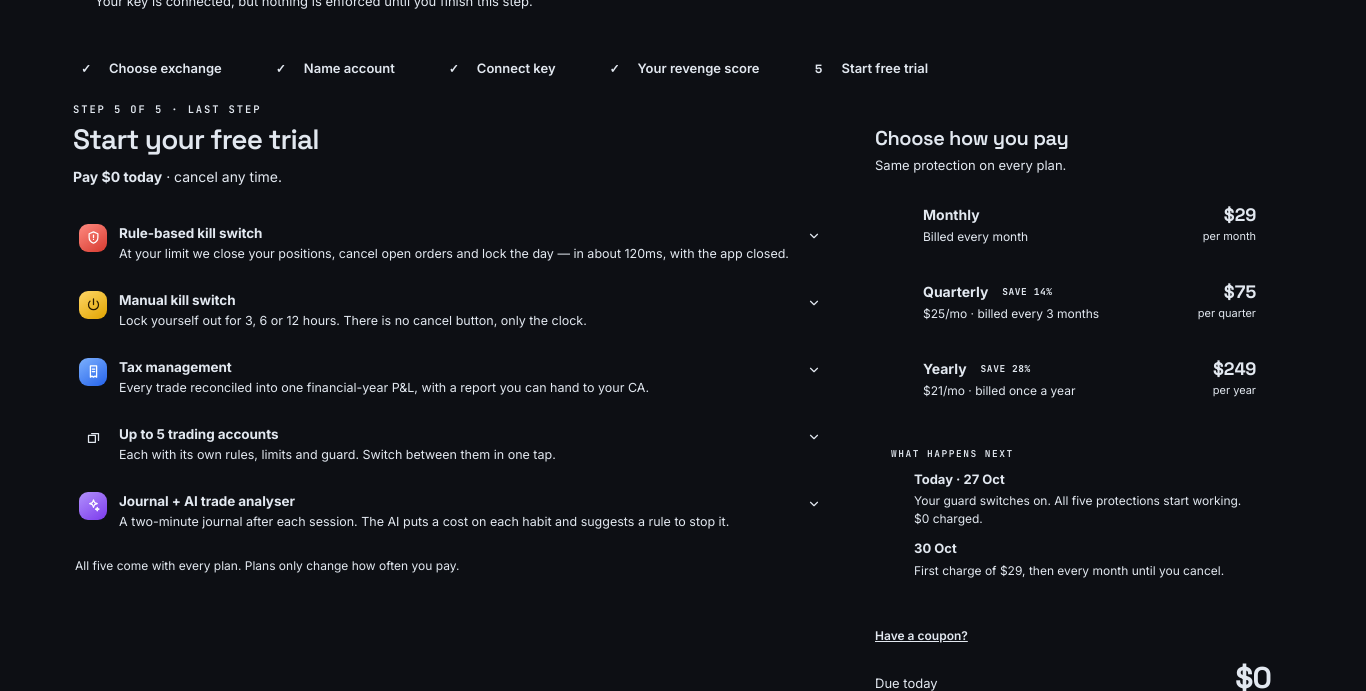
billing step › prices only the intervals the code is actually good for
The image size is (1366, 691).
Click the button "Have a coupon?". click: (921, 636)
box: [875,626,968,644]
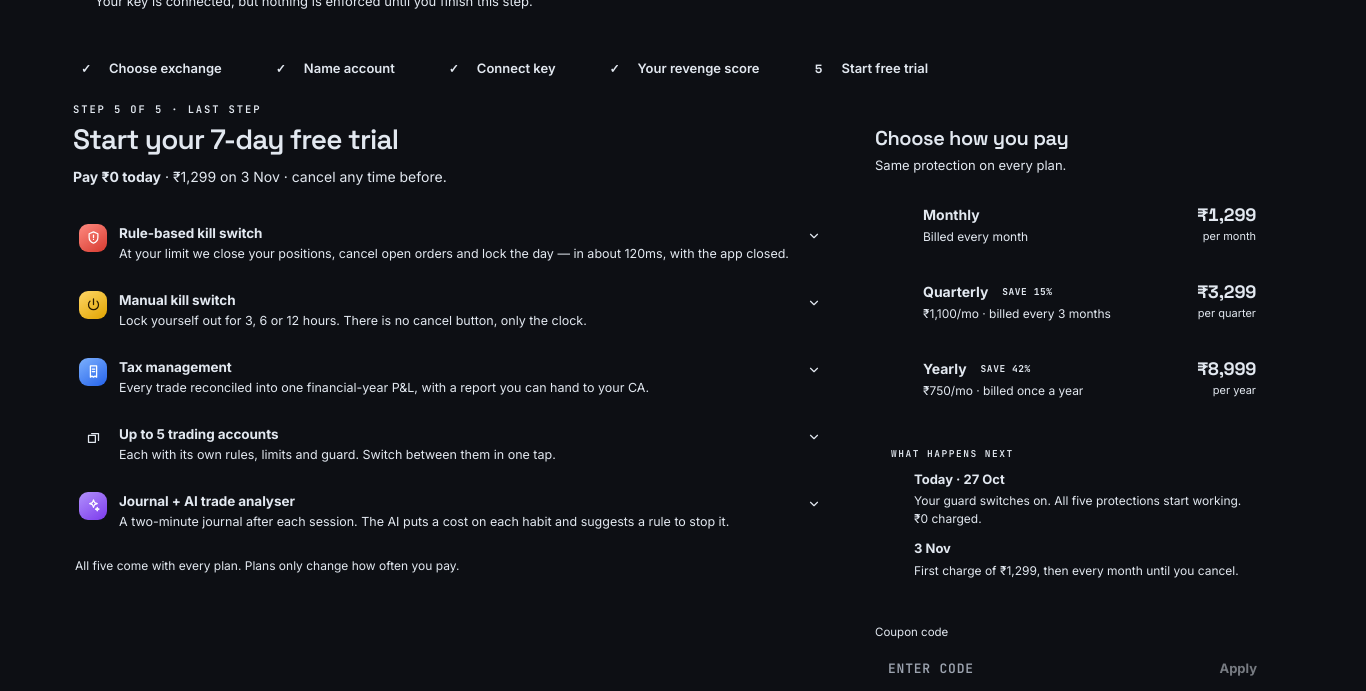
Type "monthly10" into the field with placeholder "Enter code". click: (1036, 669)
box: [875,647,1197,690]
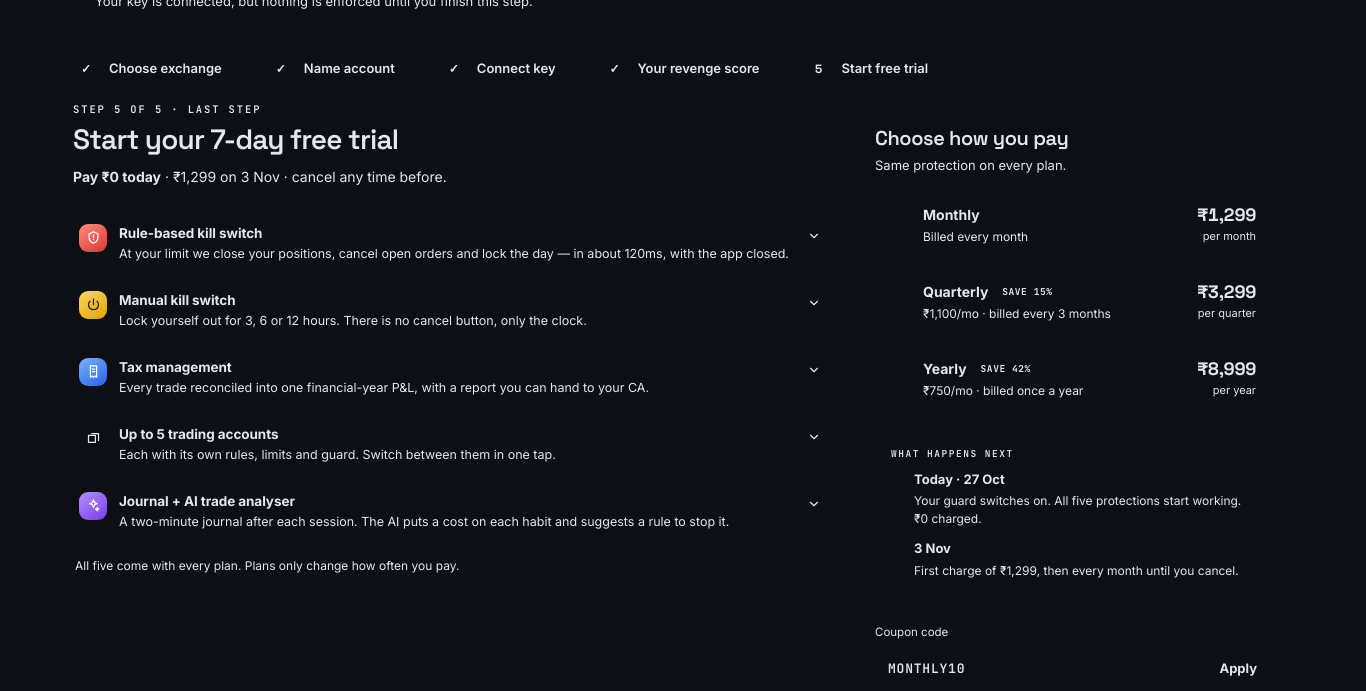
Click the button "Apply". click: (1238, 669)
box: [1205,647,1271,690]
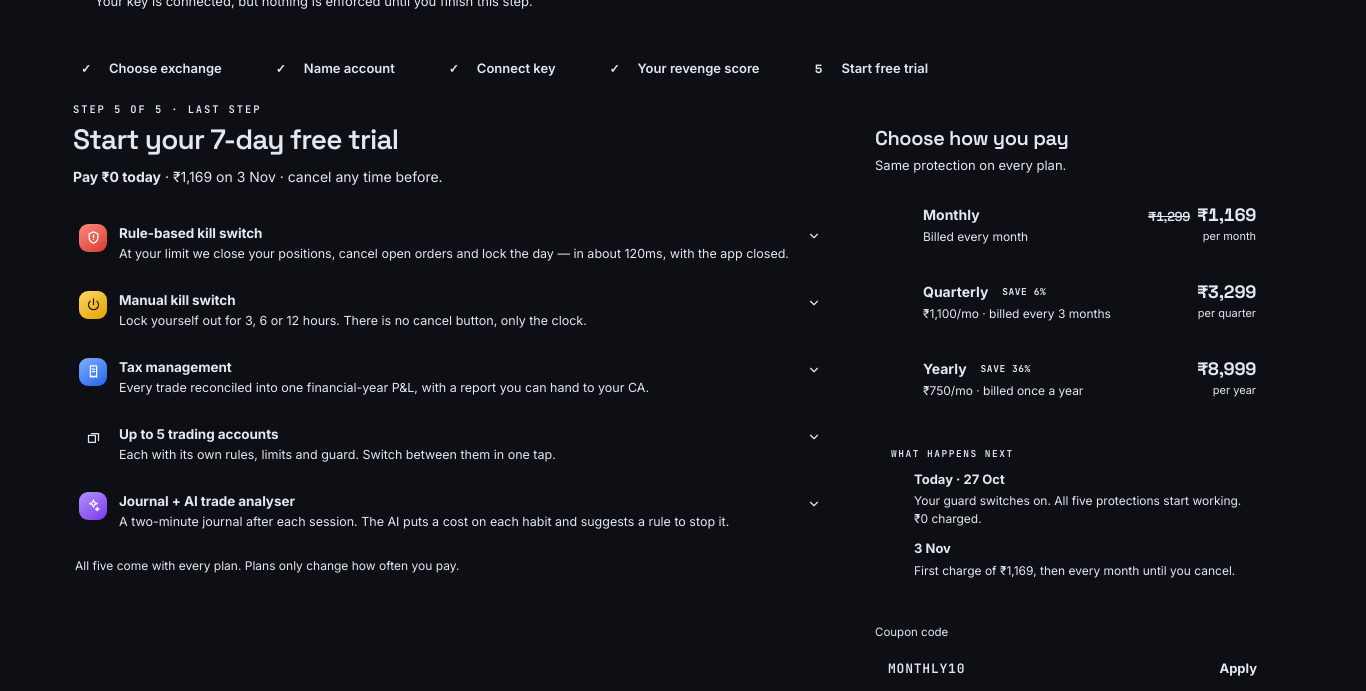
Result: the text "₹3,299" is shown at [1197,283,1256,301]
Result: the text "₹8,999" is shown at [1197,360,1256,378]
Result: the text "₹1,169" is shown at [1197,203,1256,226]
Click the radio button labelled "Yearly SAVE 36% ₹750/mo · billed once a year ₹8,999 per year". click: (945, 369)
box: [875,345,1271,413]
(page scrolled)
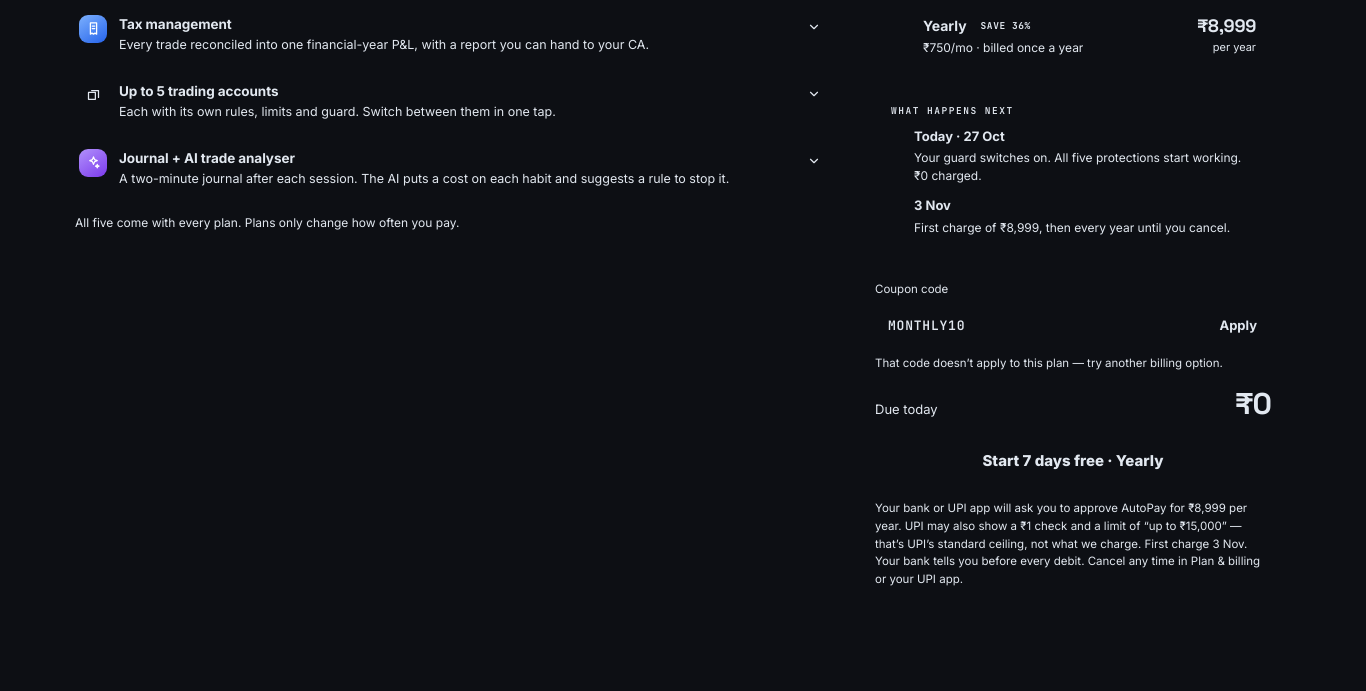
Result: the text "That code doesn’t apply to this plan — try another billing option." is shown at [875,355,1271,372]
